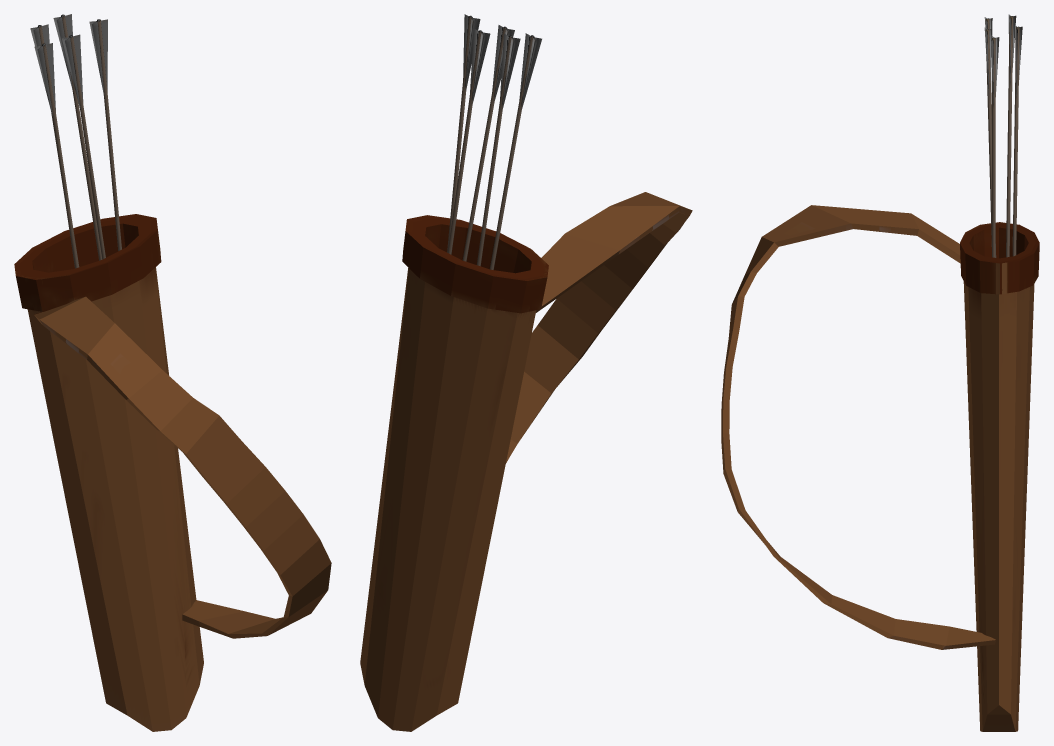
Rendered from Quiver.fbx.
The picture shows the model from 3 angles, left to right: view 1: azimuth 30°, elevation 25°; view 2: azimuth 150°, elevation 25°; view 3: azimuth 270°, elevation 25°; orthographic projection. The views are drawn at different scales.
Parts seen in each view (by area): view 1: Quiver; view 2: Quiver; view 3: Quiver.
Boxes of the visible parts, bbox=[...] form: Quiver: bbox=[14, 14, 331, 731]; Quiver: bbox=[360, 14, 692, 731]; Quiver: bbox=[721, 14, 1039, 731].
Size of the model in its own units: 22.4 by 65.93 by 28.64.
